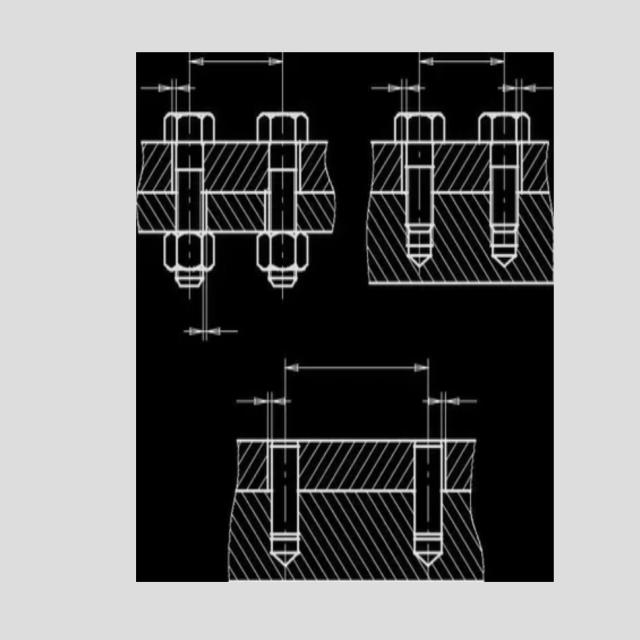marking_line: (282, 357, 431, 437), (186, 52, 284, 111), (419, 54, 506, 110), (181, 290, 240, 340), (234, 52, 284, 110), (422, 391, 479, 439), (234, 393, 291, 439), (372, 78, 422, 111), (139, 85, 195, 110), (520, 78, 553, 112), (372, 79, 404, 111), (497, 81, 519, 111), (405, 79, 423, 110)
